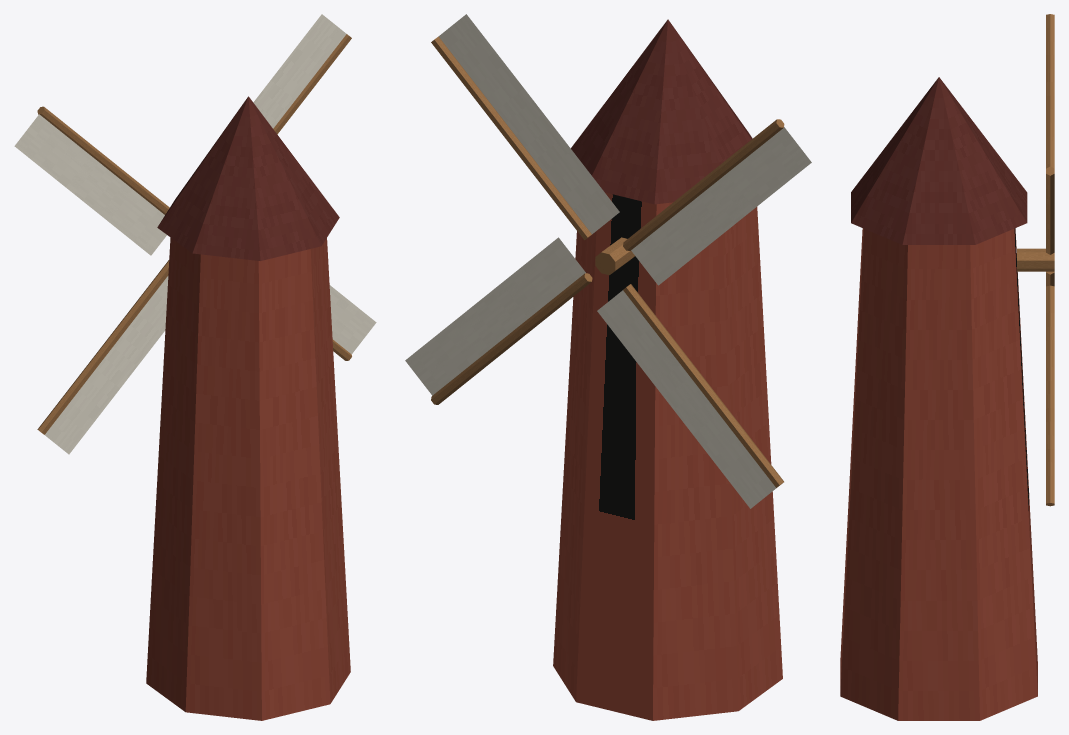
Rendered from windmill.obj.
The picture shows the model from 3 angles, left to right: view 1: azimuth 30°, elevation 25°; view 2: azimuth 150°, elevation 25°; view 3: azimuth 270°, elevation 25°; orthographic projection. The views are drawn at different scales.
Parts seen in each view (by area): view 1: windmill; view 2: windmill; view 3: windmill.
Part boxes in pixels (bbox=[...]): windmill: bbox=[14, 14, 376, 720]; windmill: bbox=[405, 14, 811, 720]; windmill: bbox=[840, 14, 1054, 720].
Size of the model in its own units: 1.87 by 2.94 by 0.9275.
